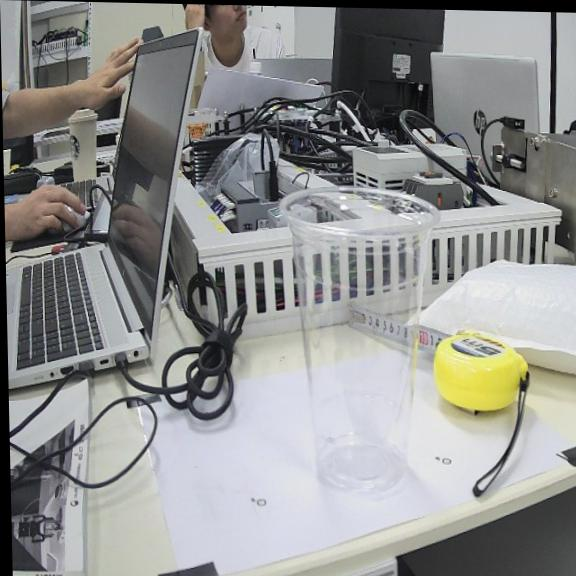Plastik: (281, 189, 439, 490)
